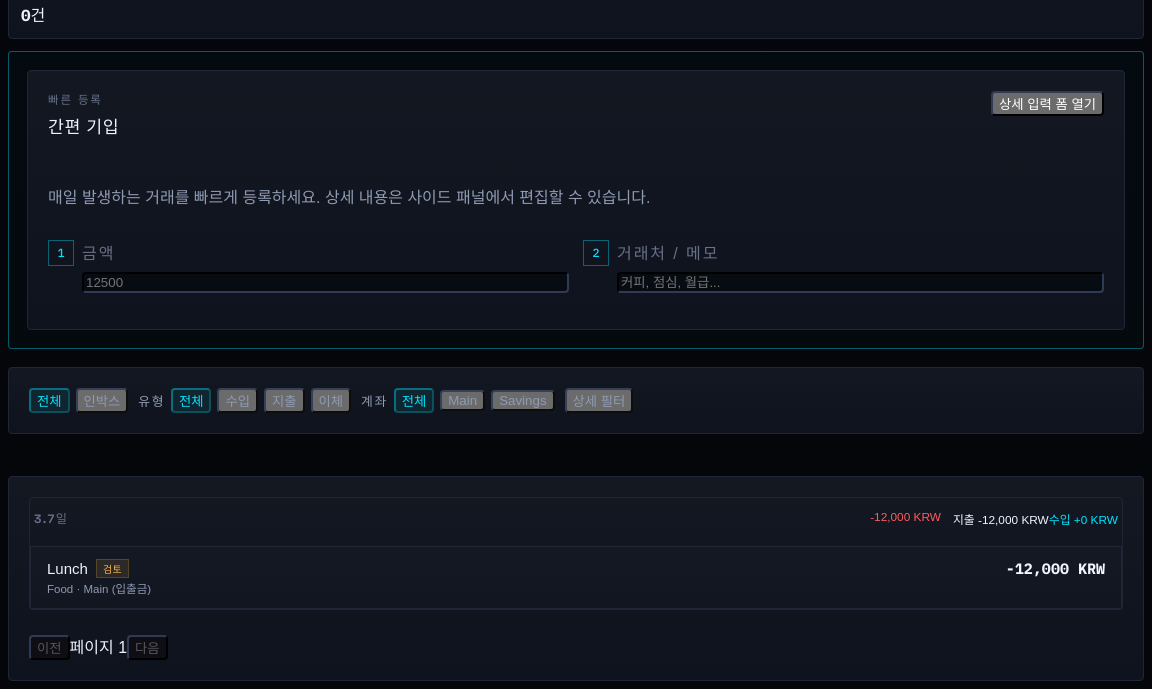
Scenario: TransactionsPage › supports delete undo before timeout
The image size is (1152, 689).
(page scrolled)
What coordinates should you click on to do the following:
click the text "Lunch"
I would click on:
 (68, 569)
Its box is [47,560,88,578].
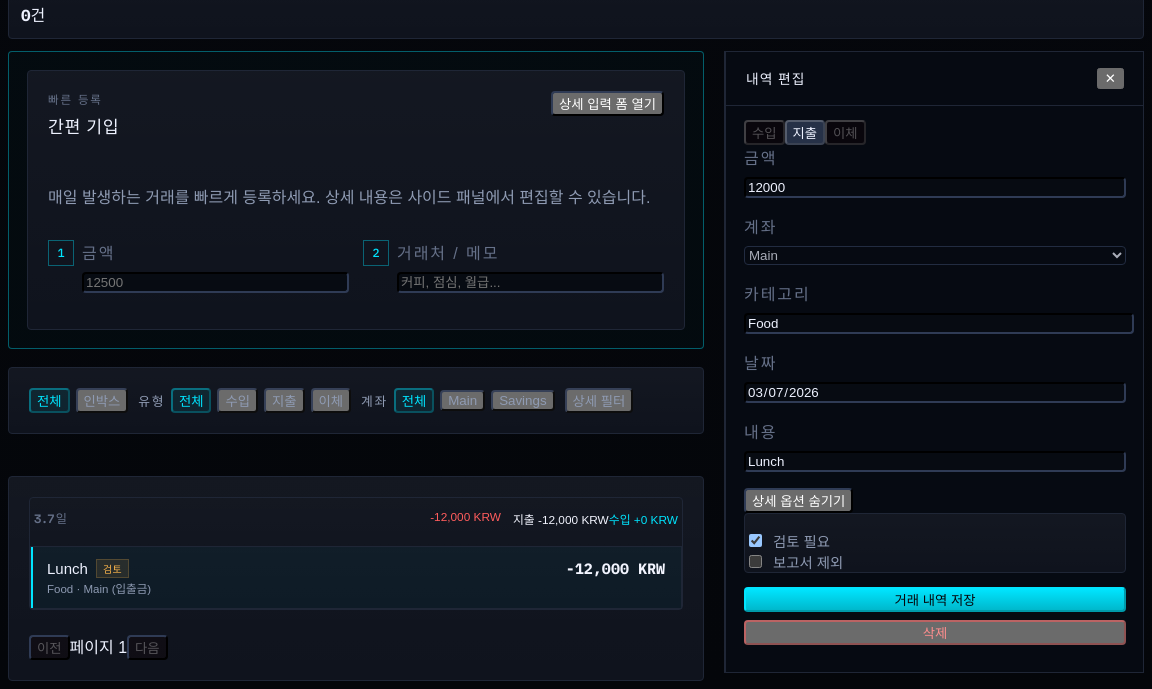
What coordinates should you click on to do the following:
click the button "삭제"
I would click on:
 (935, 633)
Its box is [744,620,1126,645].
(page scrolled)
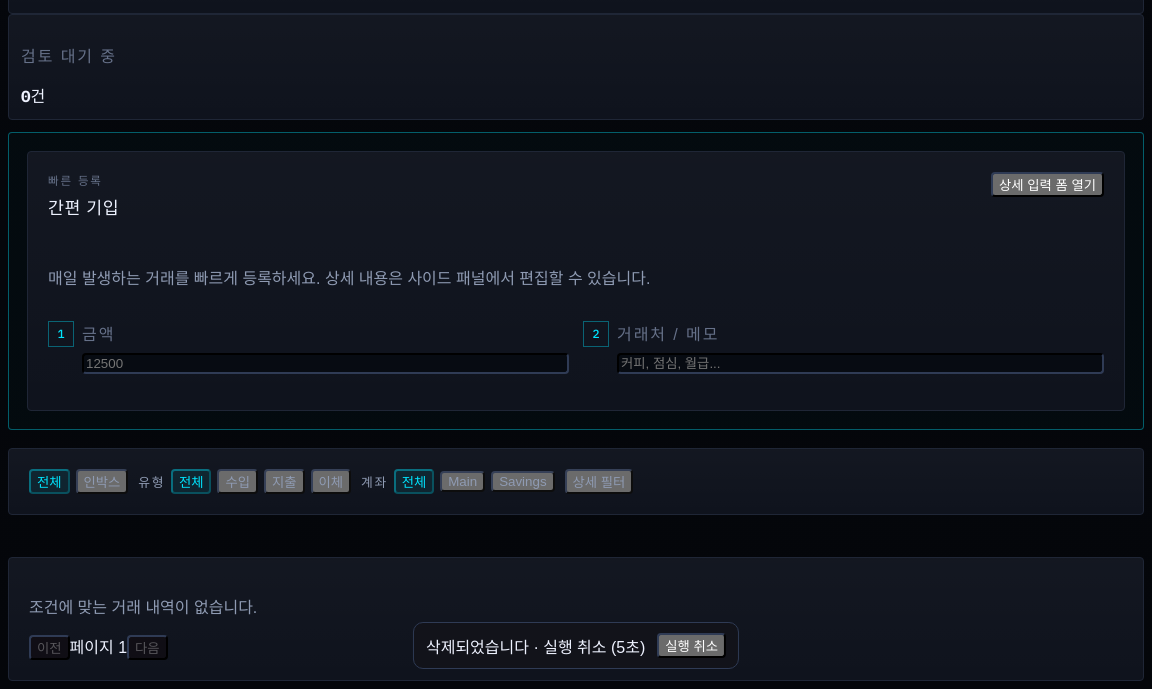
Check: the text "삭제되었습니다 · 실행 취소 (5초)" is shown, box [426,634,645,658]
What coordinates should you click on to do the following:
click the button "실행 취소"
I would click on:
 (692, 646)
Its box is [657,633,726,658].
Wait 5000 ms
(page scrolled)
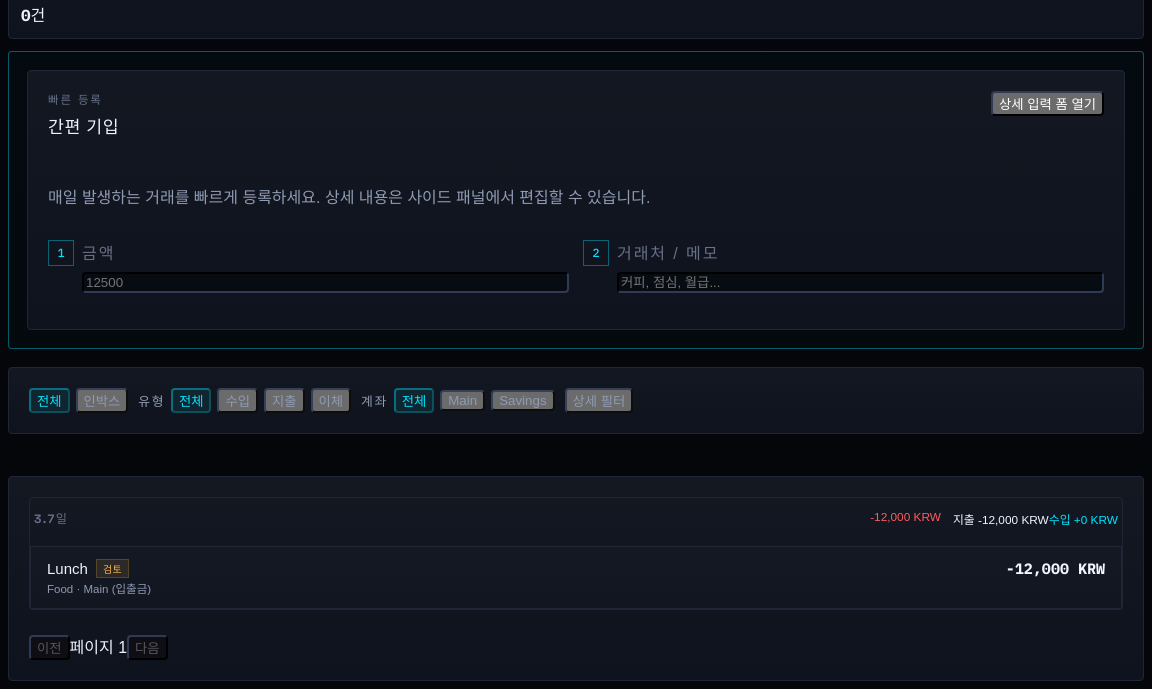
Check: the text "Lunch" is shown, box [47,560,88,578]
